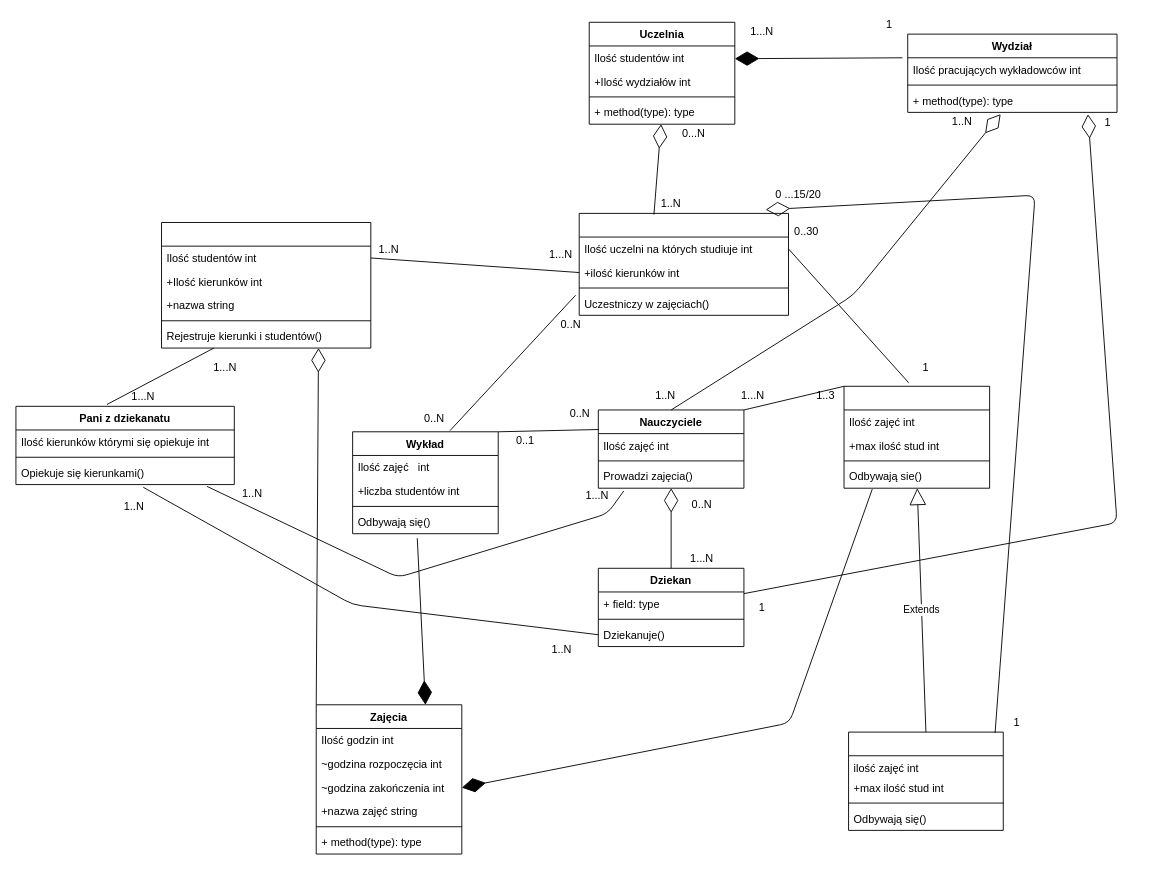
Image size: 1157x872. Some labels were removed from this diagram. The shapes that lost their labels are listed below. From the top down, each one's box as (x1, y1, x2, y2) in pixels, then its label:
(578, 212, 789, 315): Student
(161, 222, 371, 348): Kierunek
(843, 385, 990, 488): Ćwiczenia
(848, 731, 1003, 830): ćwiczeniach laboratoryjnych
